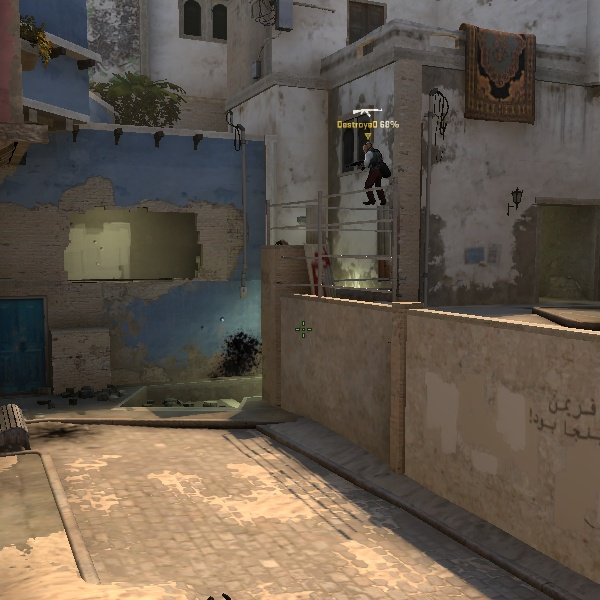t_body: (349, 140, 396, 206)
t_head: (360, 140, 377, 157)
